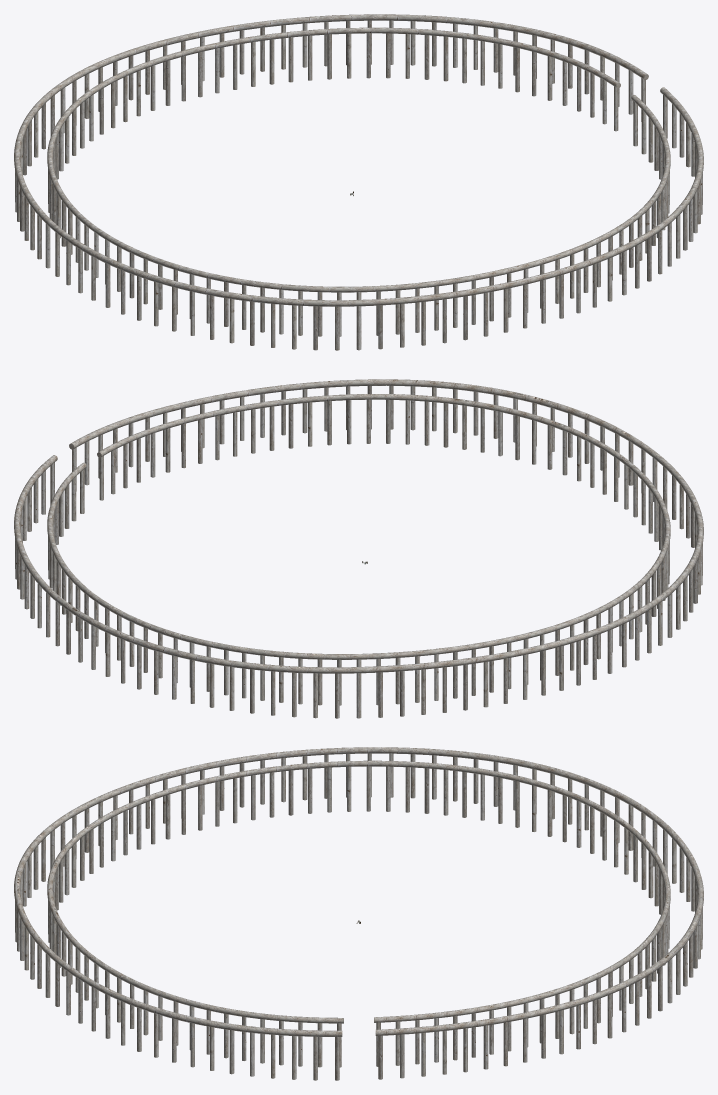
File: SC7tcfinal.glb
The picture shows the model from 3 angles, top to bottom: view 1: azimuth 30°, elevation 25°; view 2: azimuth 150°, elevation 25°; view 3: azimuth 270°, elevation 25°; orthographic projection.
Parts seen in each view (by area): view 1: Cylinder079; view 2: Cylinder079; view 3: Cylinder079.
Boxes of the visible parts, left/top/right/bottom form: Cylinder079: left=14, top=14, right=703, bottom=350; Cylinder079: left=14, top=379, right=703, bottom=718; Cylinder079: left=14, top=747, right=703, bottom=1080.
Size of the model in its own units: 502 by 46.32 by 502.
Materials: 5 (5 with a texture image).
